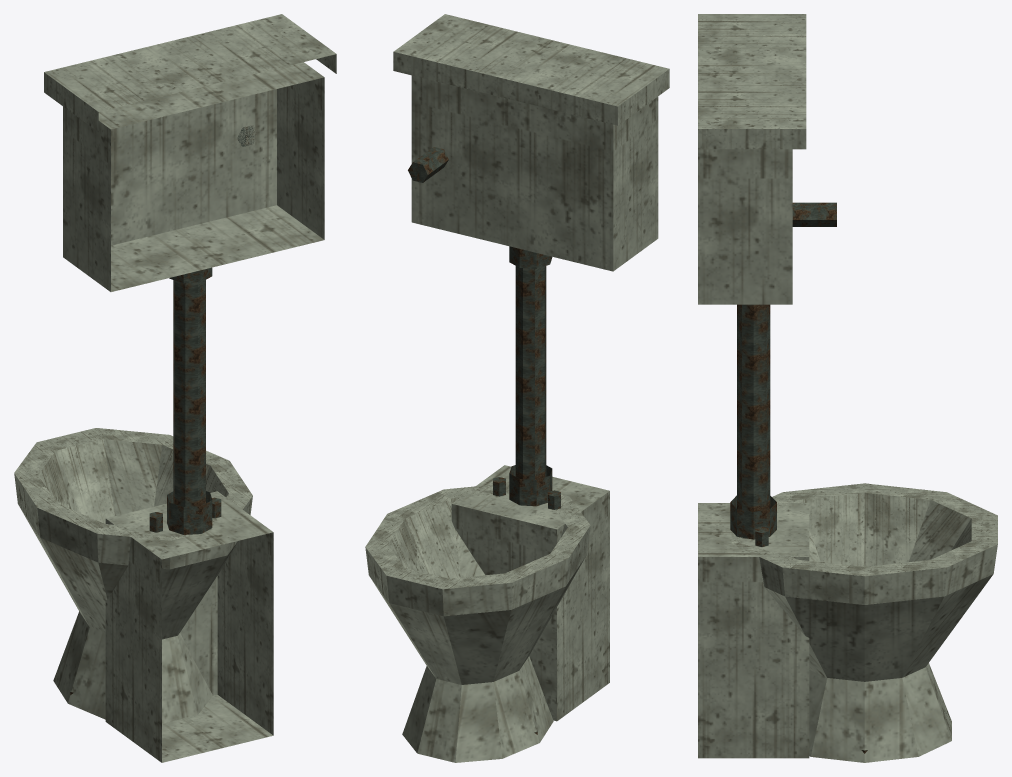
File: SM_Toilet.fbx
3 views of the same model, side by side, from view 1: azimuth 30°, elevation 25°; view 2: azimuth 150°, elevation 25°; view 3: azimuth 270°, elevation 25° (orthographic). The views are drawn at different scales.
Visible parts, largest first — view 1: SM_Toilet; view 2: SM_Toilet; view 3: SM_Toilet.
Boxes of the visible parts, bbox=[...] form: SM_Toilet: bbox=[14, 14, 336, 762]; SM_Toilet: bbox=[365, 14, 669, 762]; SM_Toilet: bbox=[698, 14, 997, 762].
Bounding box in the file's own units: 0.49 × 1.31 × 0.5397.
